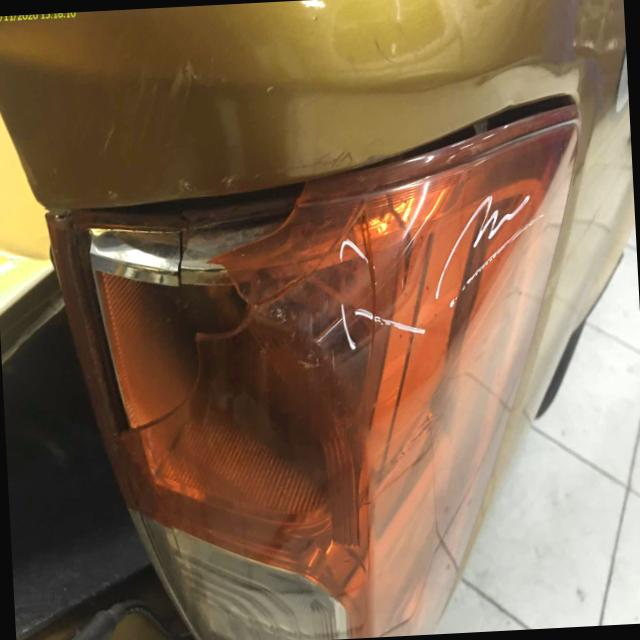Dechirure: (390, 75, 589, 162), (78, 164, 316, 236)
Phare abime: (90, 160, 323, 446)
